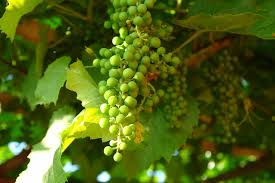grapes: (106, 5, 163, 161)
